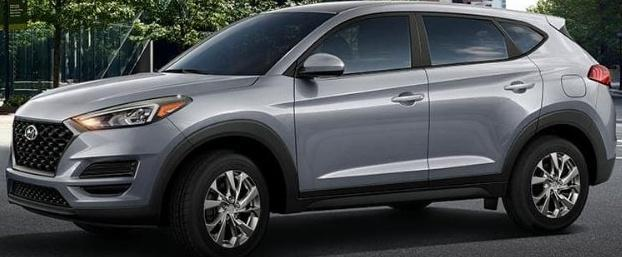SUV: (6, 3, 617, 256)
